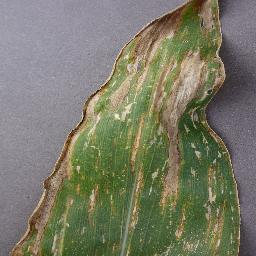Gray_Leaf_Spot: (157, 0, 243, 256), (99, 17, 156, 177), (55, 85, 99, 220), (8, 172, 55, 256), (125, 176, 145, 232), (54, 219, 69, 256), (107, 242, 135, 256), (108, 194, 117, 216), (118, 182, 125, 198), (104, 186, 113, 196)
